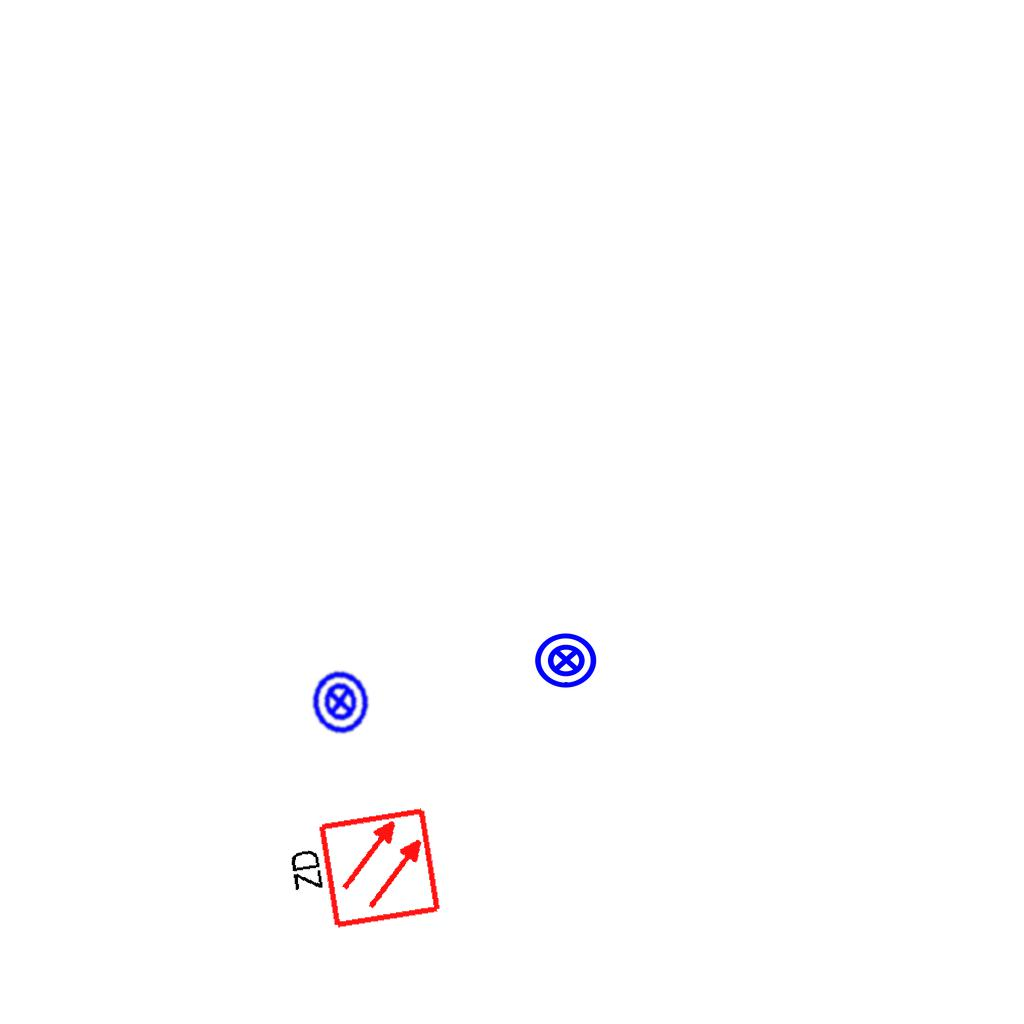Taster_beleuchtet: (303, 665, 377, 739), (533, 627, 599, 693)
ZD_Melder_in_Zwischendecke_mit_Revisionsoeffnung_mind_40_x_40_cm: (278, 804, 444, 941)
